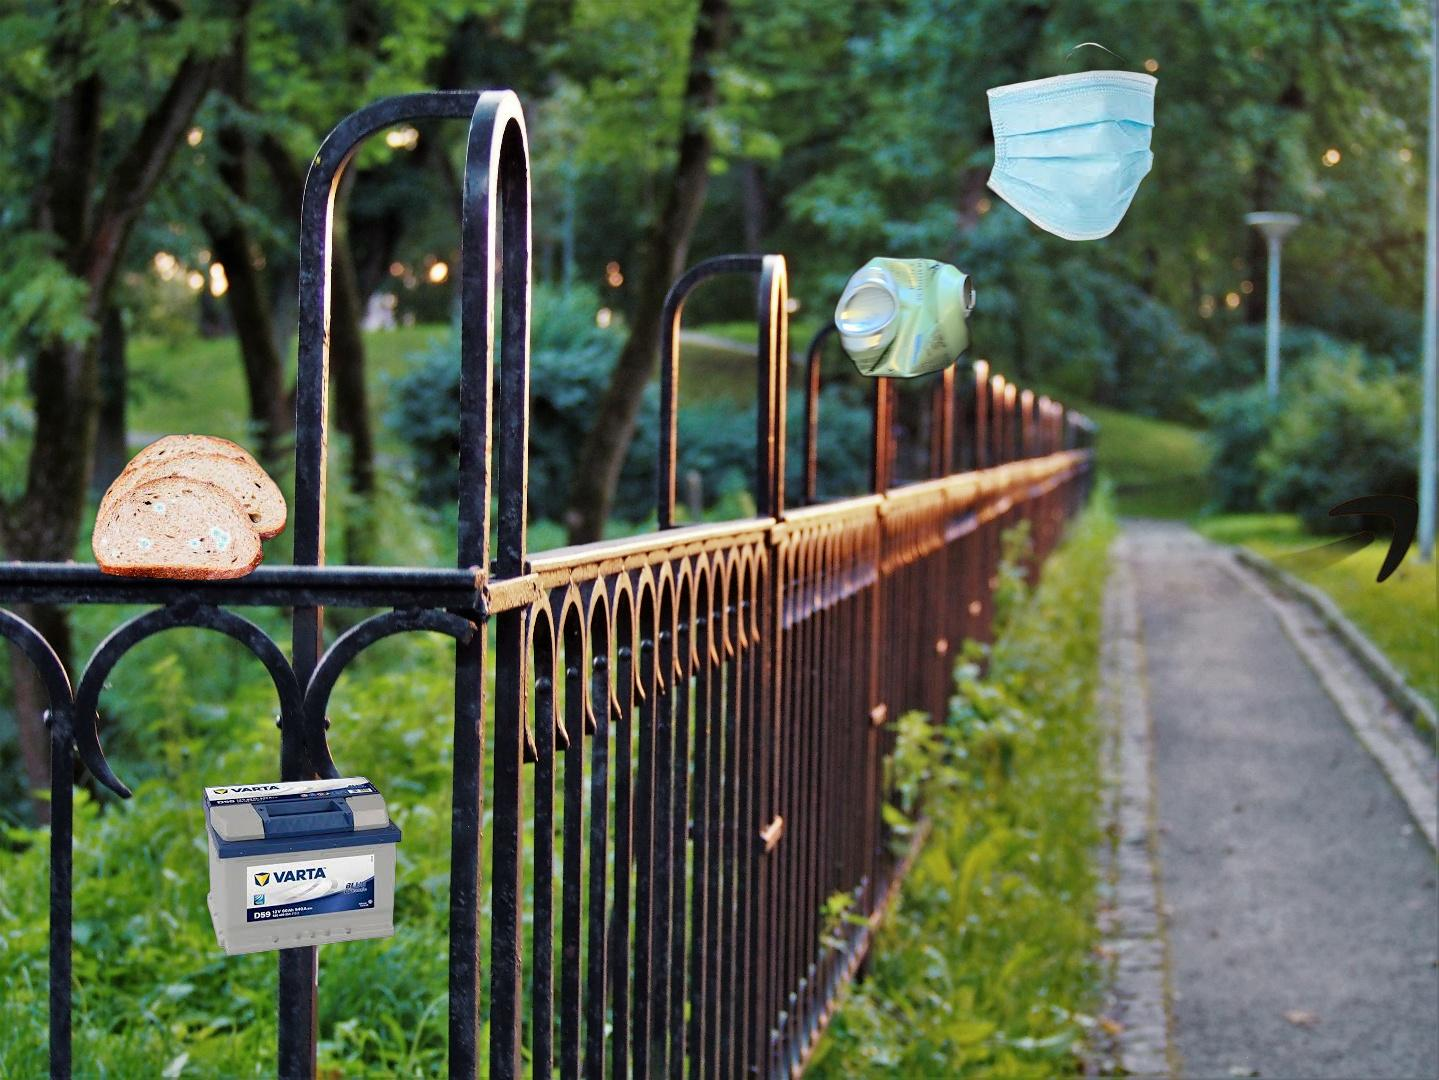battery: (198, 773, 405, 959)
biological: (88, 429, 291, 583)
clothes: (1410, 1004, 1439, 1080)
metal-cans: (829, 250, 982, 383)
trash: (983, 40, 1162, 243)
trashbox-cardboard: (1022, 355, 1424, 655)
